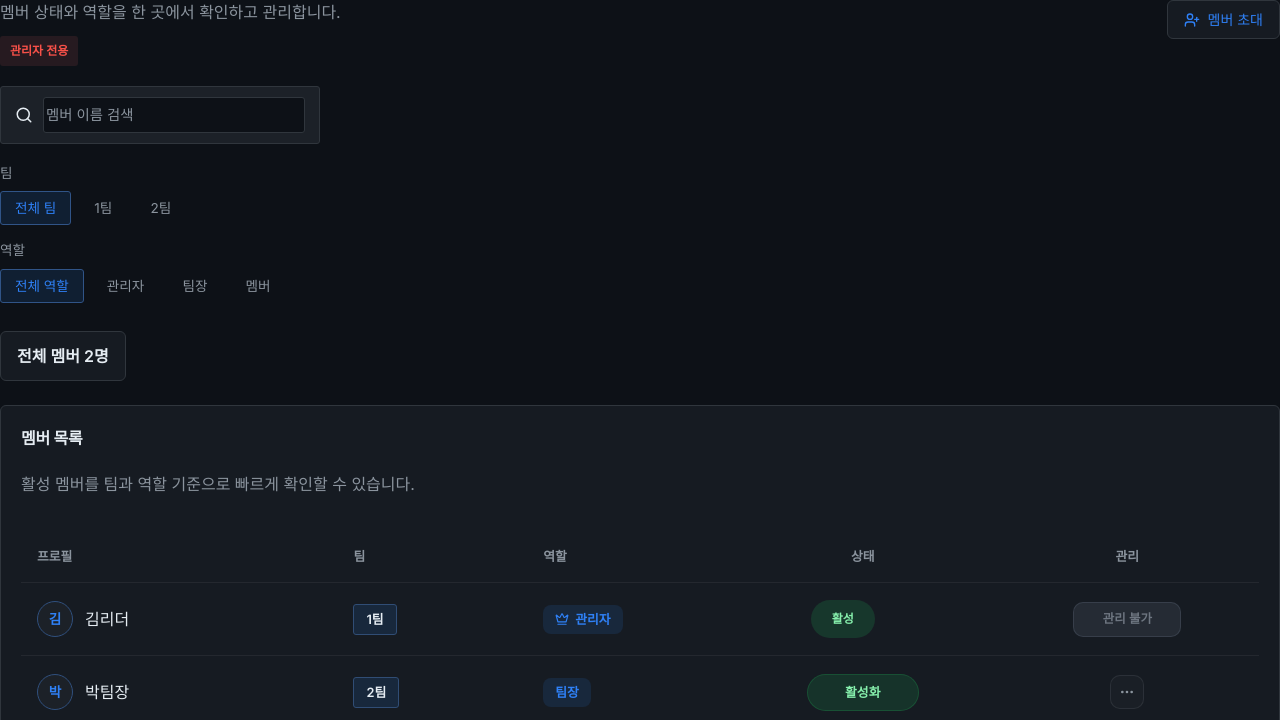
Test: Members 페이지 › 관리 컬럼에 상태 및 퇴출 액션이 함께 표시된다
The image size is (1280, 720).
Expected: the button "활성화" is shown, [807,674,919,711]
Step 1. Click the button named "관리 메뉴 열기" → (1127, 692), box [1110,675,1144,709]
(page scrolled)
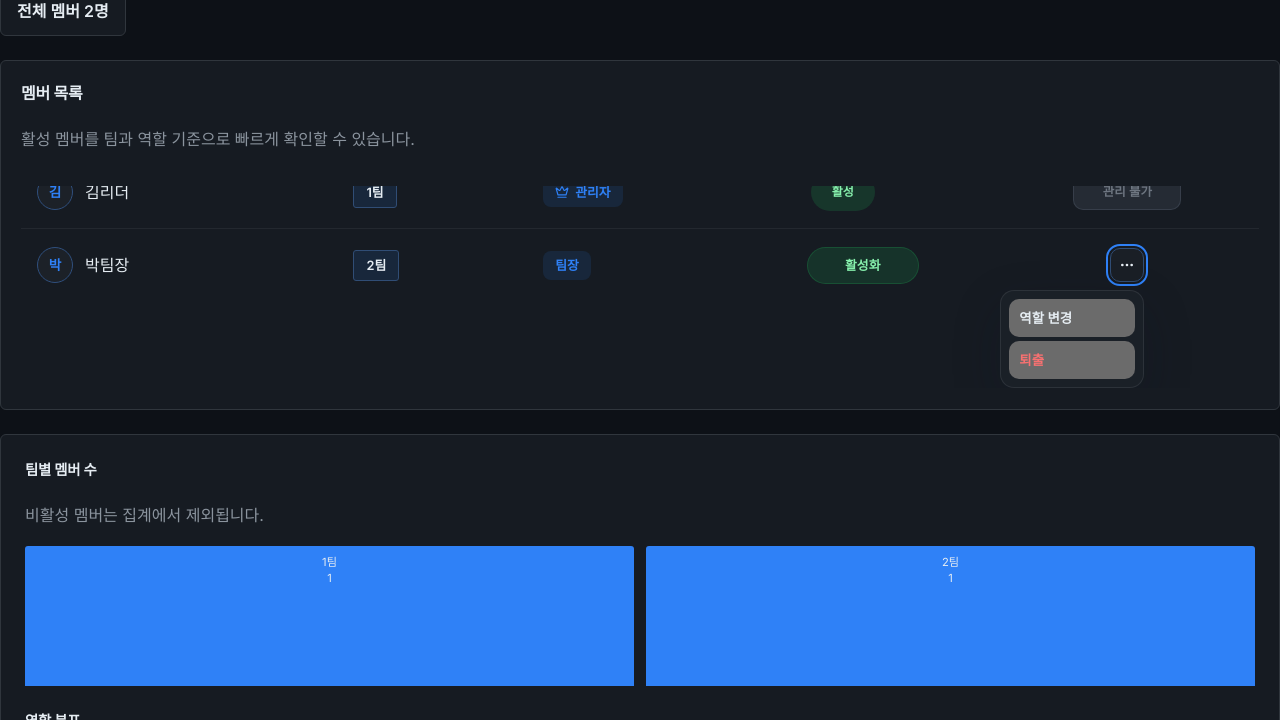
Expected: the menu item "퇴출" is shown, [1009,341,1135,380]
